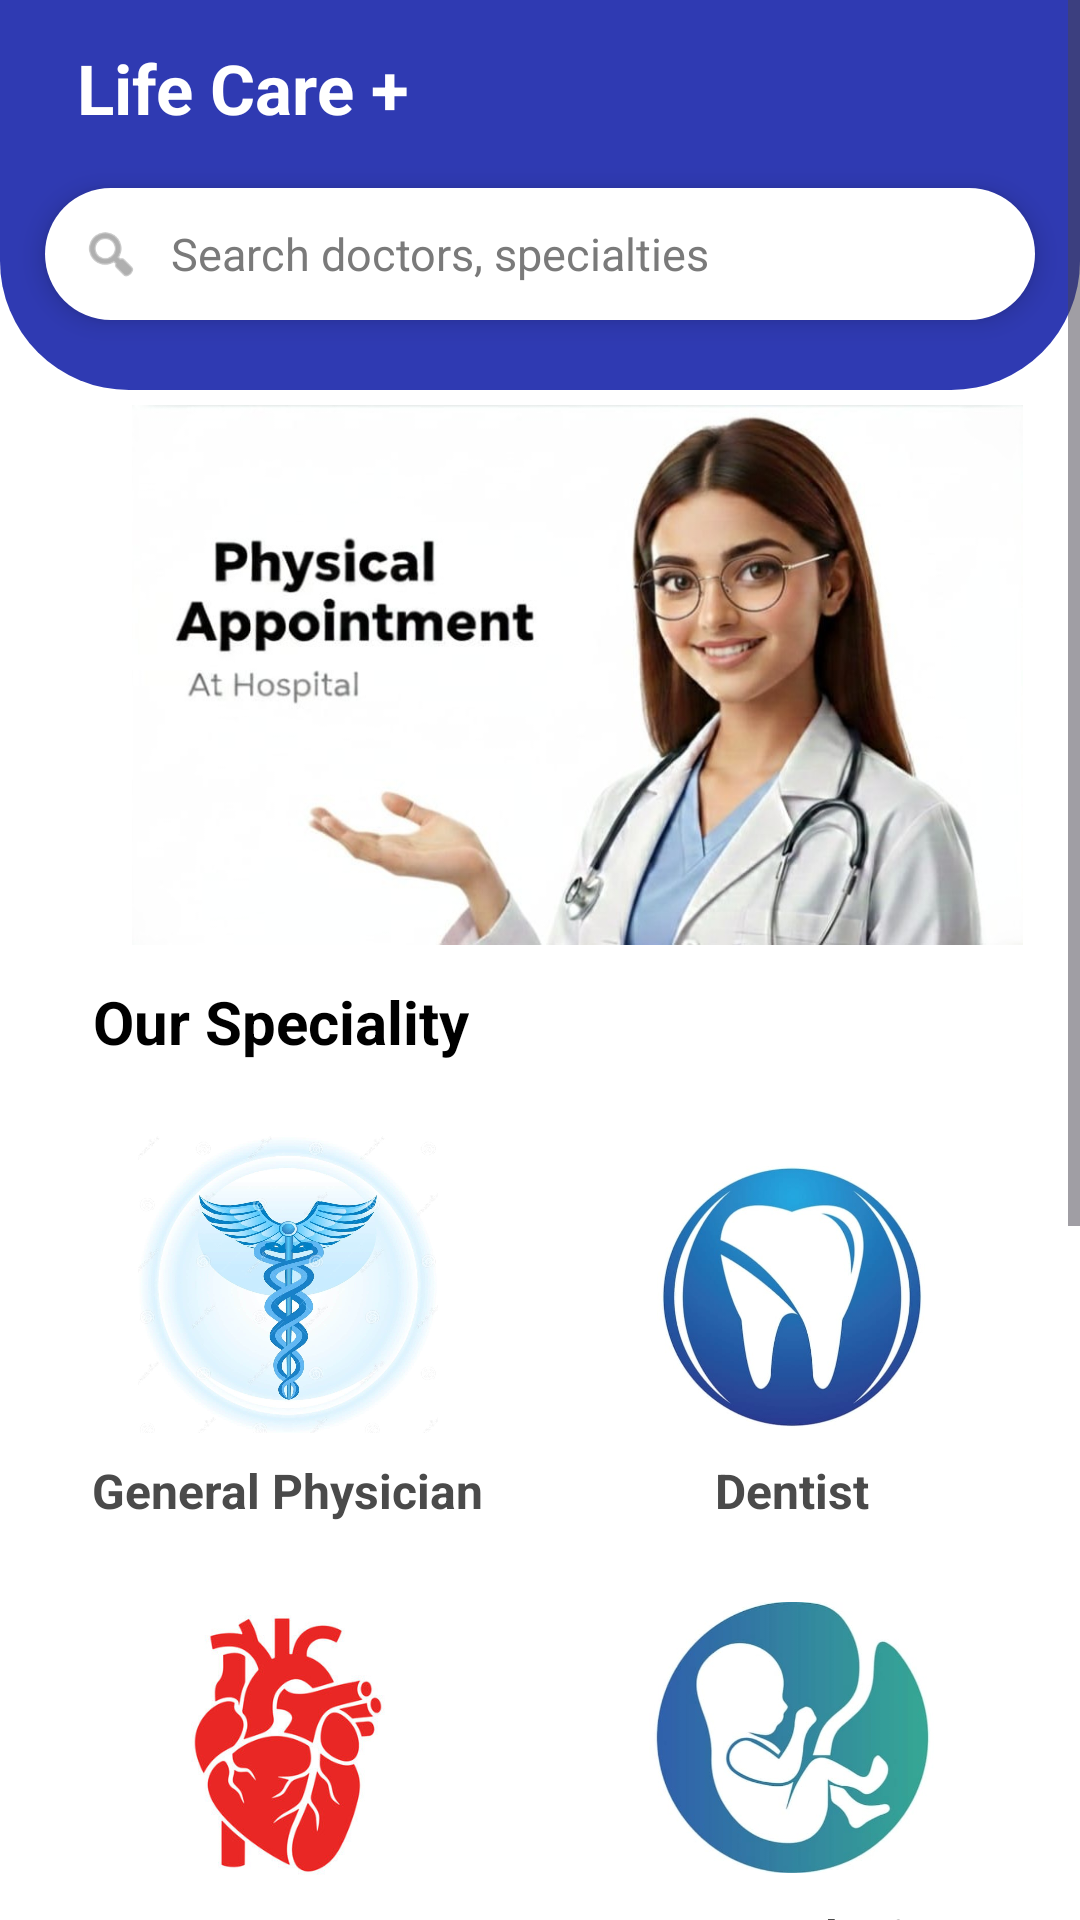

Icons on this 1080x1920 Android screen, each with its box as (x1, y1, x2, y2):
gynocologist: (656, 1602, 929, 1873)
